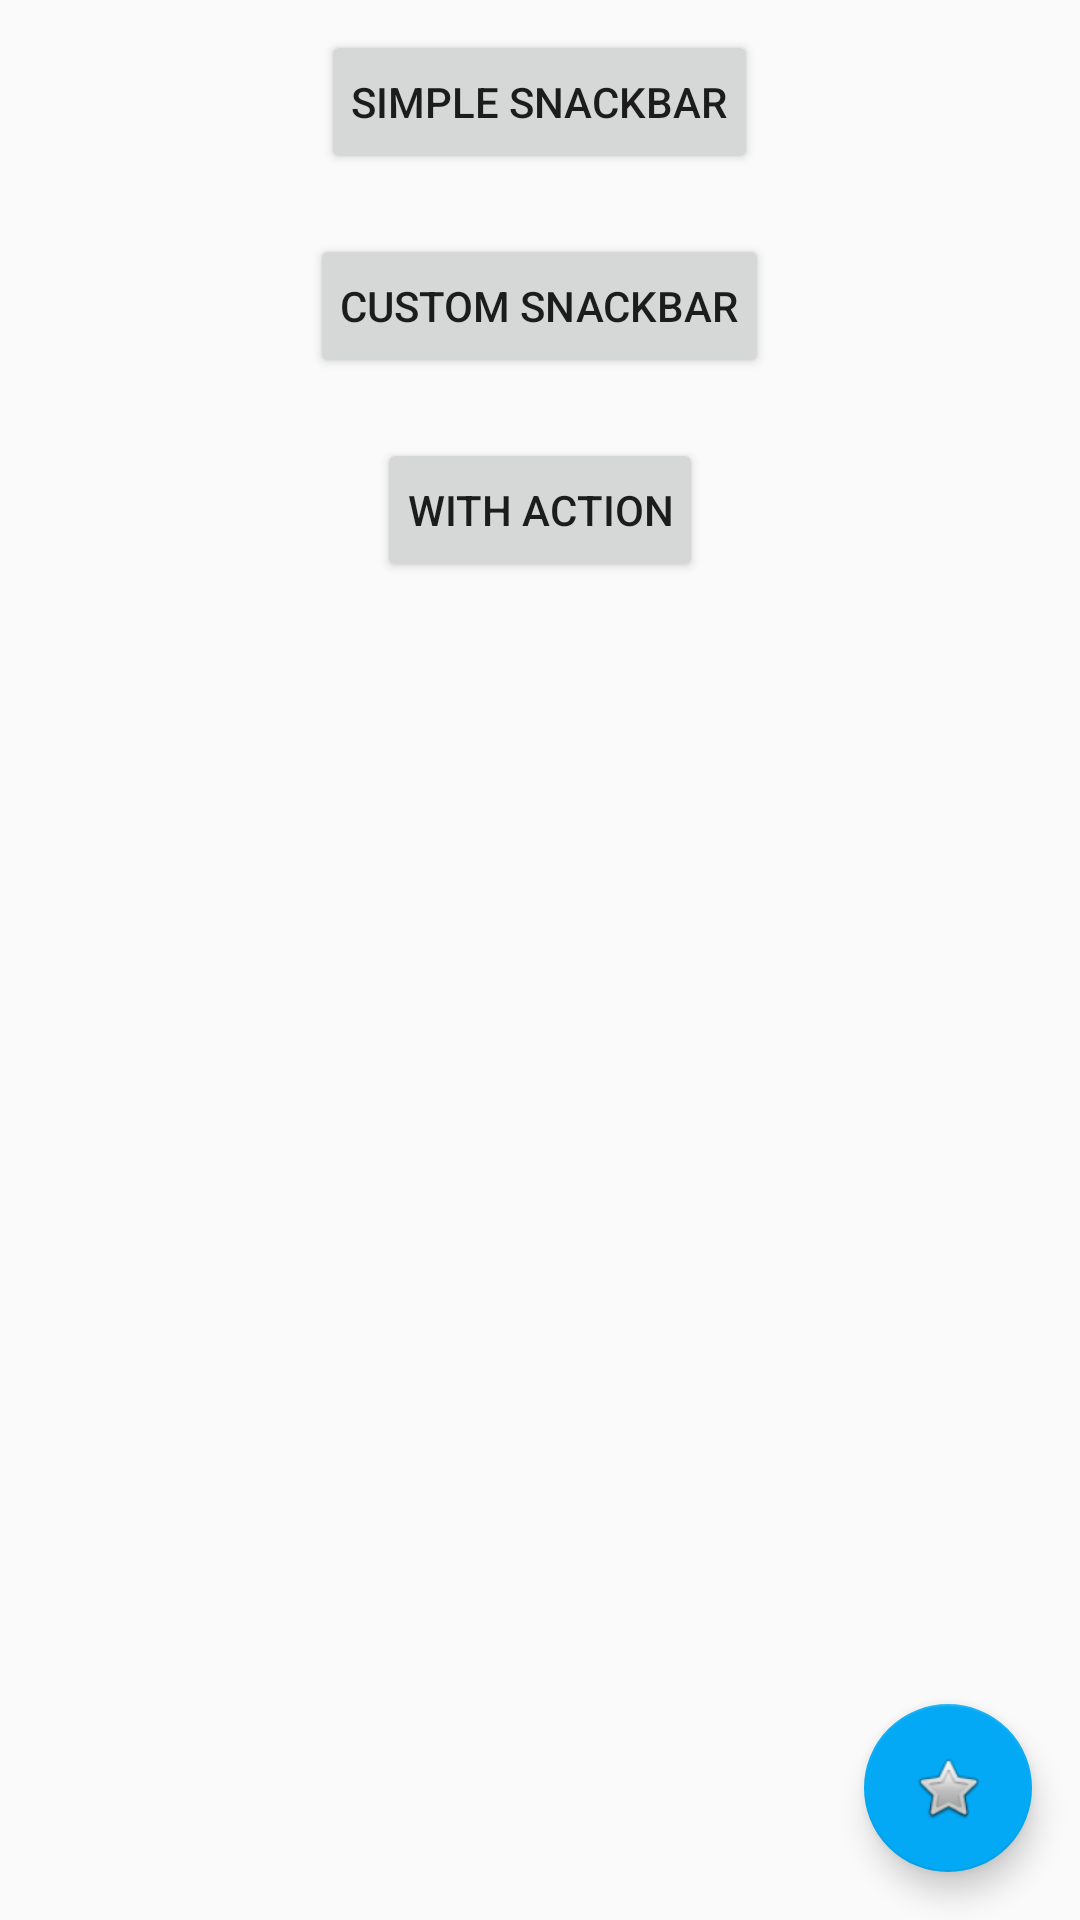

Locate icon controls on the screen. Image size 1080px×1920px, boxes as (x1, y1, x2, y2).
star off: (864, 1704, 1032, 1872)
